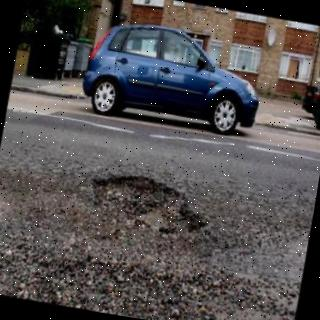pothole: (93, 176, 206, 233)
